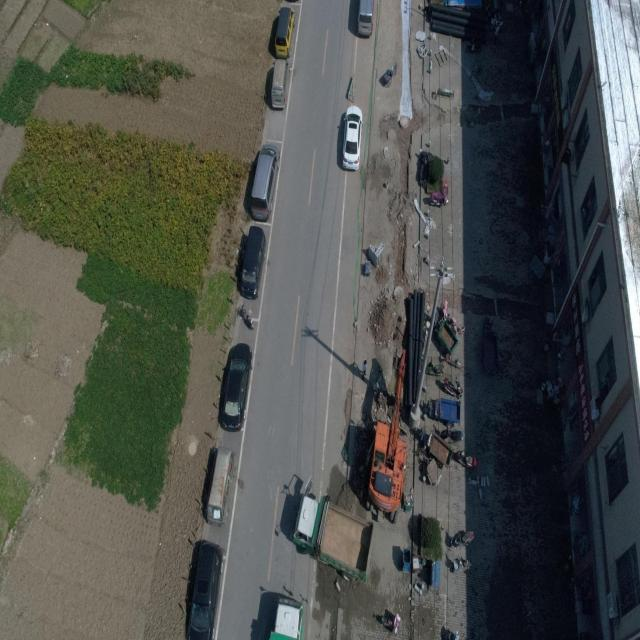p3rson: (494, 22, 500, 46), (362, 356, 366, 379)
